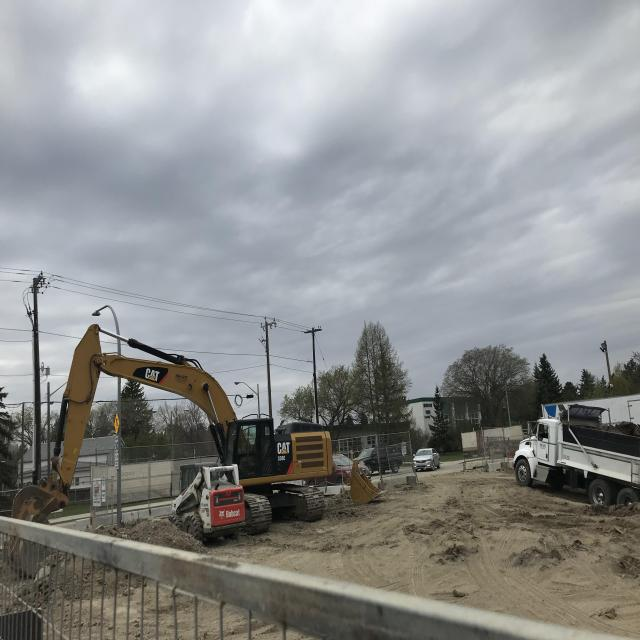buldozerpayloadergrader: (169, 462, 244, 542)
dump_truck: (512, 396, 640, 513)
excavator: (12, 319, 340, 556)
